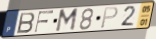2: (119, 5, 138, 29)
8: (79, 7, 94, 31)
B: (16, 12, 36, 35)
F: (33, 10, 55, 34)
M: (54, 7, 80, 34)
P: (99, 6, 119, 30)
